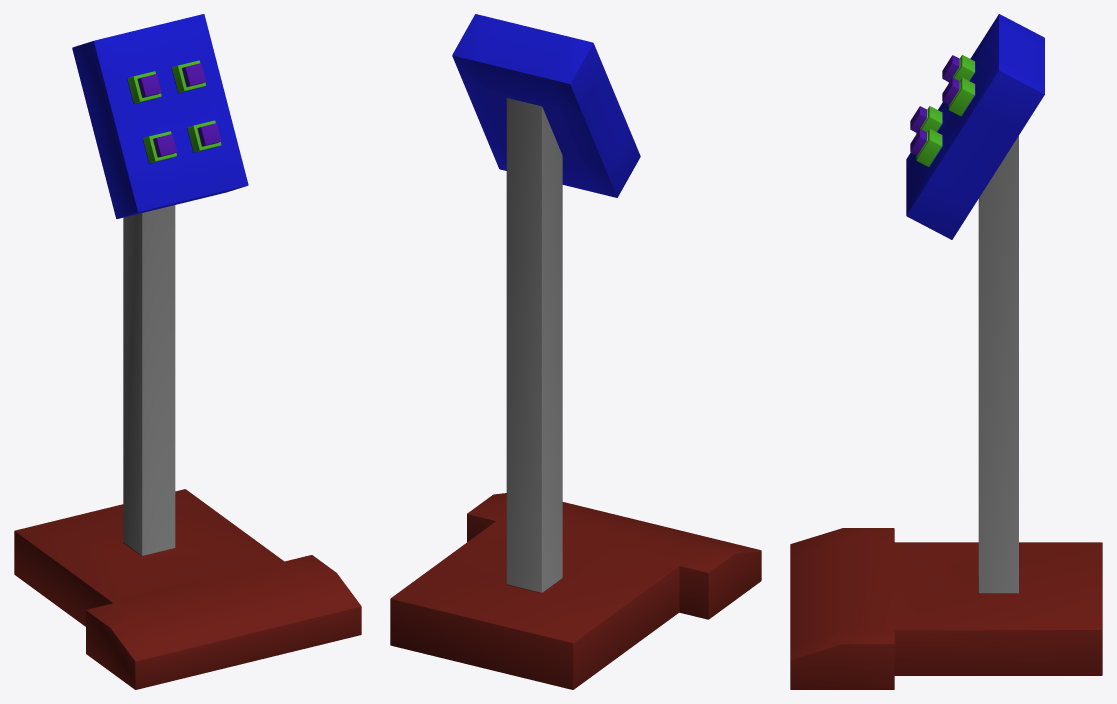
File: Botones.fbx
3 views of the same model, side by side, from view 1: azimuth 30°, elevation 25°; view 2: azimuth 150°, elevation 25°; view 3: azimuth 270°, elevation 25° (orthographic). The views are drawn at different scales.
Visible parts, largest first — view 1: Stand, Button Box; view 2: Stand, Button Box; view 3: Stand, Button Box.
Boxes of the visible parts, x1,y1,x2,y2 form: Stand: (14,205,361,689); Button Box: (72,14,248,218); Stand: (390,98,761,689); Button Box: (452,14,640,197); Stand: (790,136,1102,689); Button Box: (906,14,1044,239).
Size of the model in its own units: 21.06 by 49.94 by 23.96.
